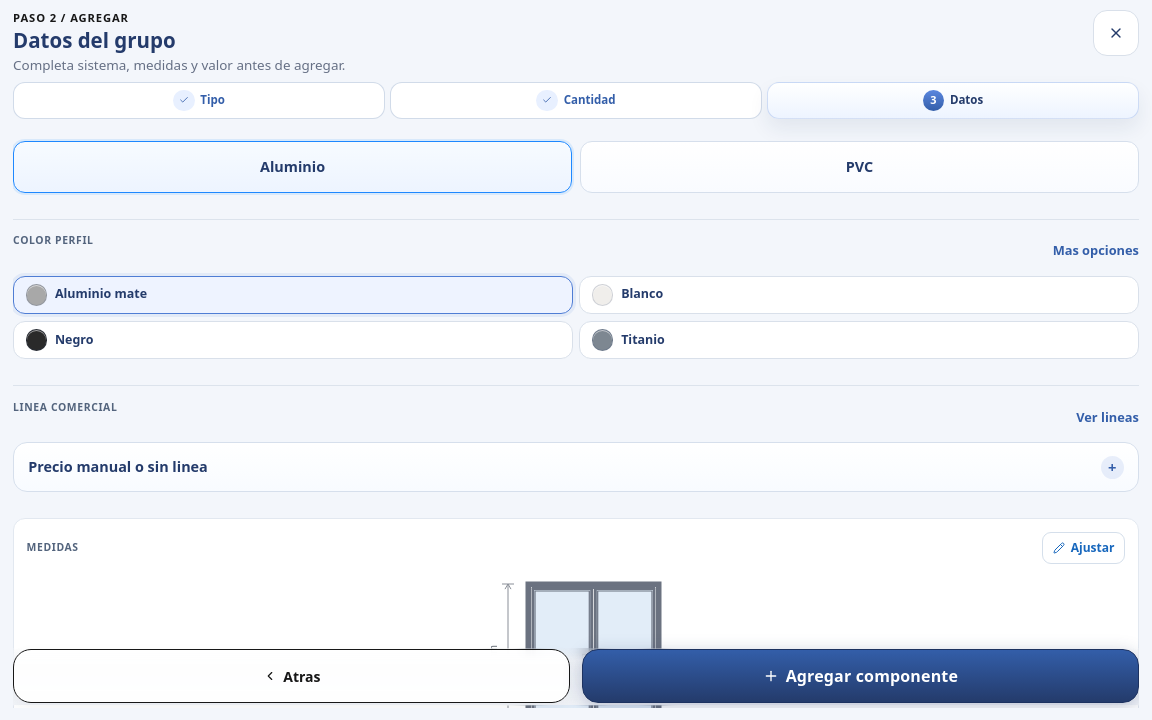
Test: PasoDosWizardMovil › monta el selector de líneas sobre el documento para cubrir toda la pantalla
(page scrolled)
Click the button "Ver lineas" at [1108, 417], box left=1076, top=400, right=1139, bottom=435
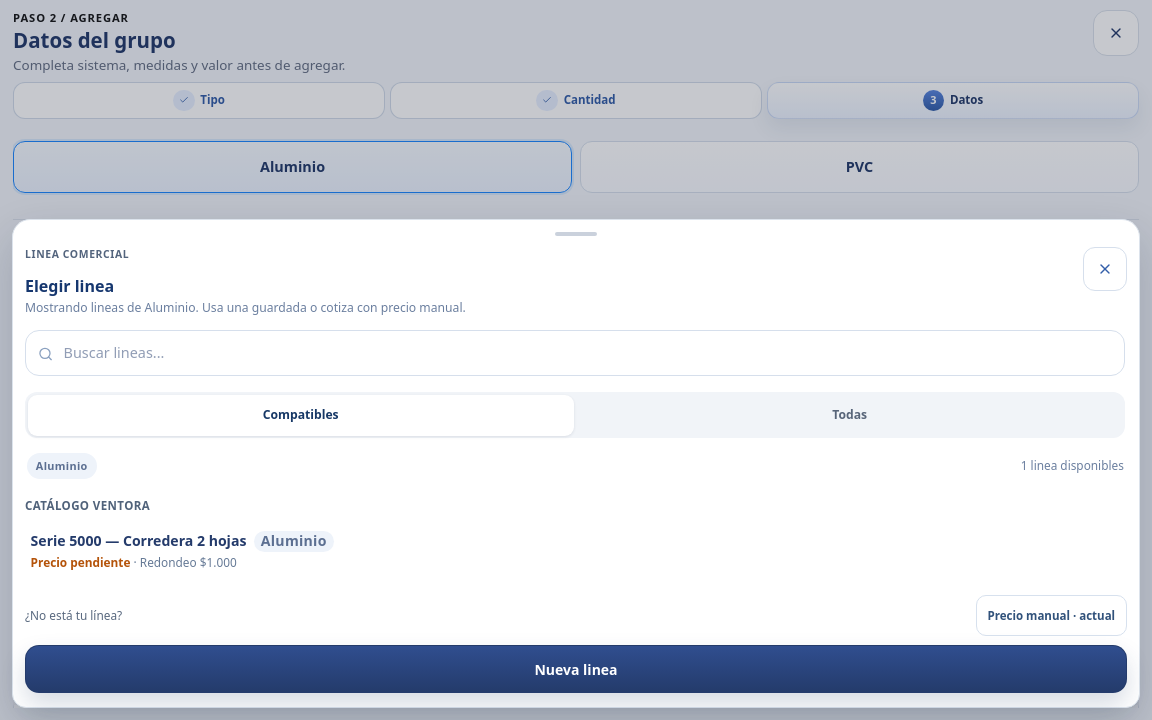
Now the field with placeholder "Buscar lineas..." is shown, box left=25, top=330, right=1125, bottom=376
